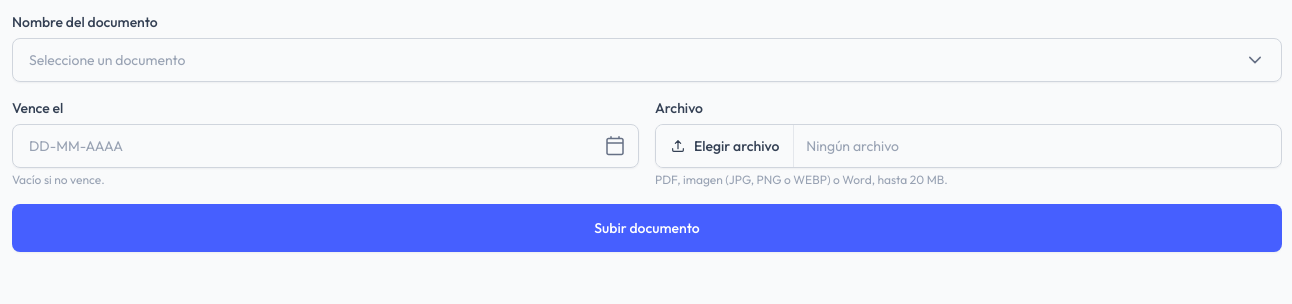
Test case: Agregar documento: nombre de la lista fija › el nombre se elige de la lista de cinco documentos
Click the dropdown at x=107, y=60, box [12,38,1282,82]
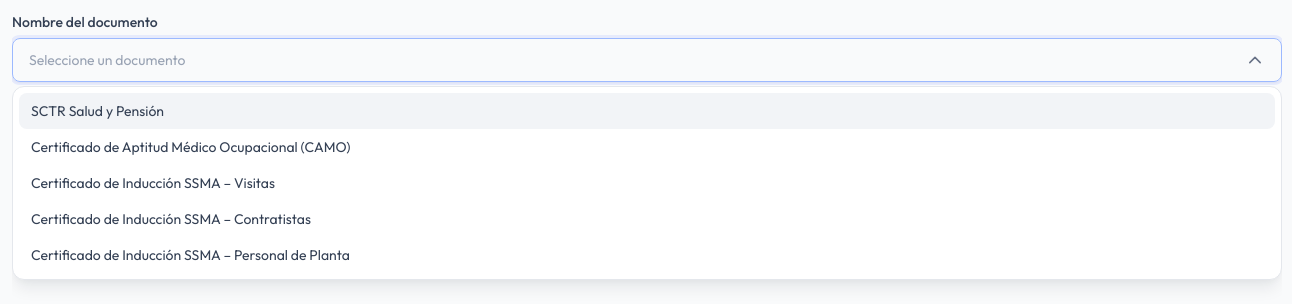
Check: the options read "SCTR Salud y Pensión", "Certificado de Aptitud Médico Ocupacional (CAMO)", "Certificado de Inducción SSMA – Visitas", "Certificado de Inducción SSMA – Contratistas", "Certificado de Inducción SSMA – Personal de Planta", in this order, box [19,93,1275,129]; [31,138,351,156]; [31,174,275,192]; [31,210,311,228]; [31,246,350,264]
